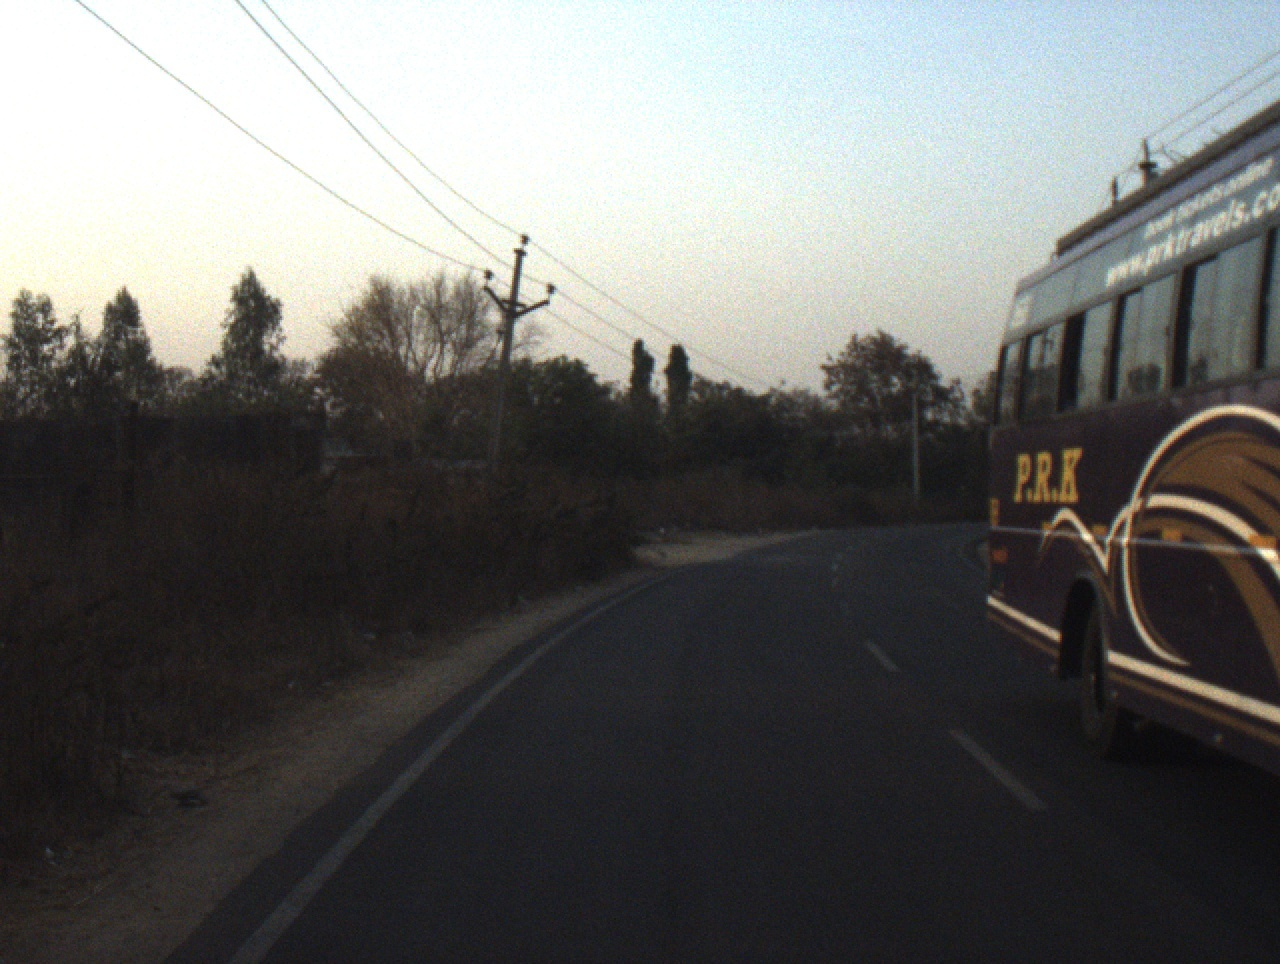bus: (963, 49, 1278, 783)
